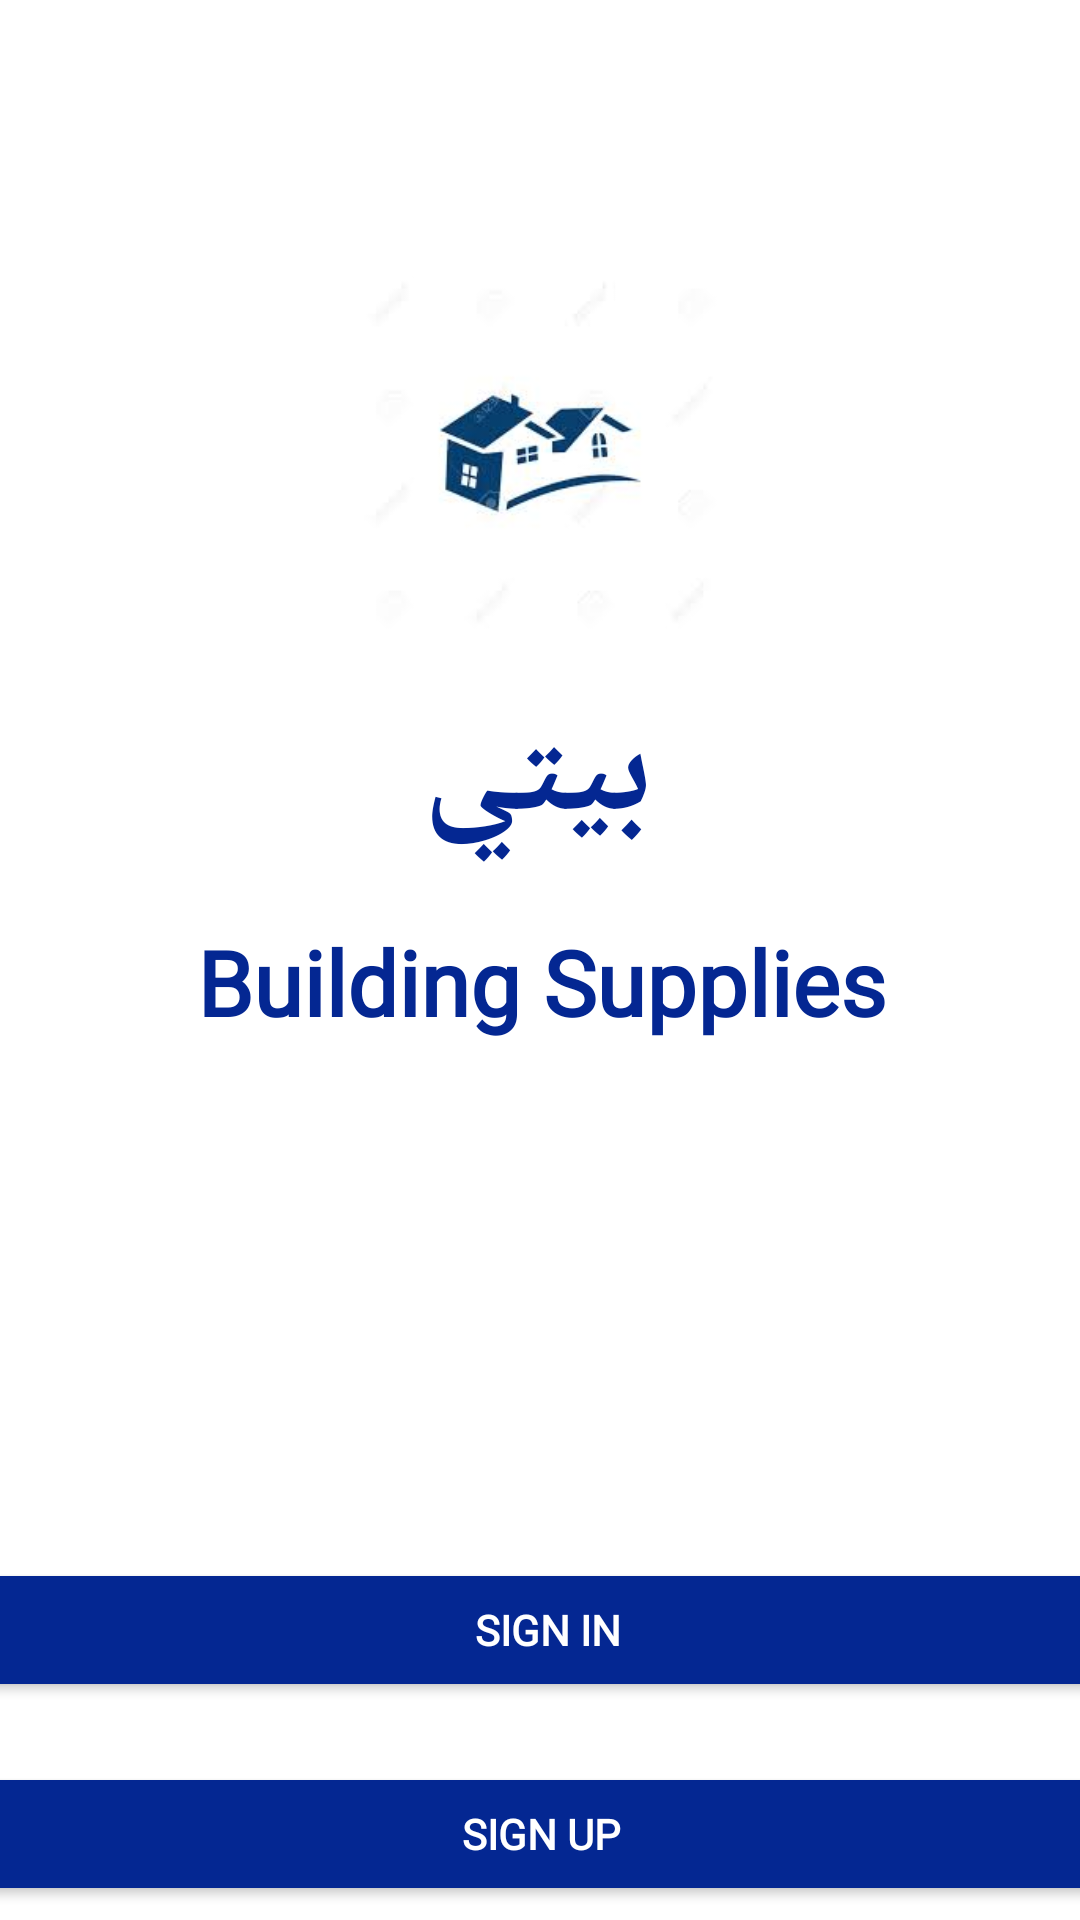

Where icons sit on this 1080w x 1920h app screen, as (x1, y1, x2, y2):
house: (440, 391, 641, 512)
